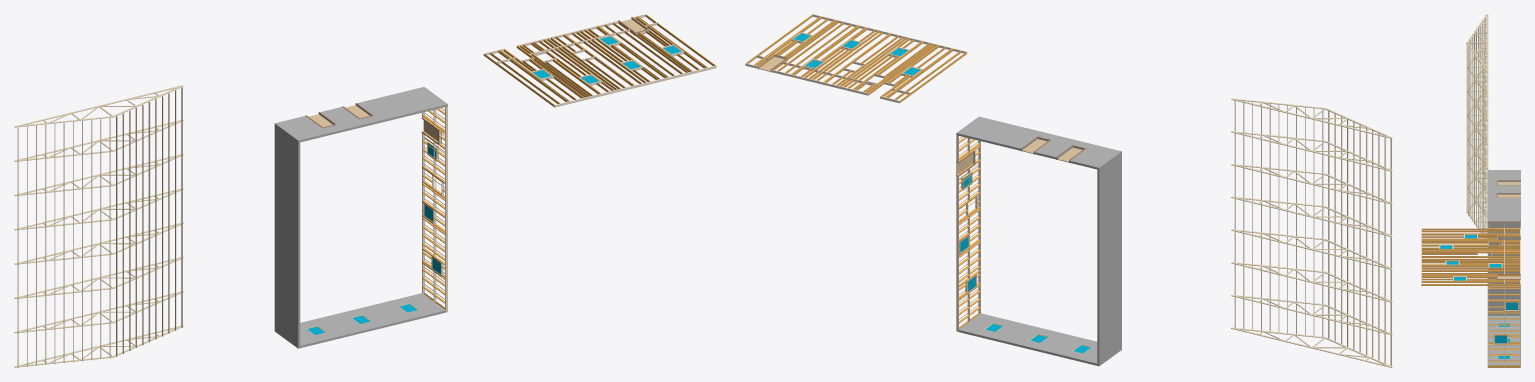
3 renders of one model, left to right at view 1: azimuth 30°, elevation 25°; view 2: azimuth 150°, elevation 25°; view 3: azimuth 270°, elevation 25°, orthographic. The views are drawn at different scales.
Visible parts, largest first — view 1: Wall Walls <361356 Muro ejemplo>, Wall Walls <361357 Muro ejemplo>, Wall Walls <361355 Muro ejemplo>, FamilySymbol Structural Framing <360180 2x4>; view 2: Wall Walls <361356 Muro ejemplo>, Wall Walls <361357 Muro ejemplo>, Wall Walls <361355 Muro ejemplo>; view 3: FamilySymbol Structural Framing <360180 2x4> (×13), Wall Walls <361357 Muro ejemplo>, Wall Walls <361356 Muro ejemplo>, Wall Walls <361355 Muro ejemplo>, FamilySymbol Doors <361679 36" x 84"> (×3), FamilySymbol Windows <361465 36" x 48"> (×2), FamilyInstance Structural Framing I_WF Stud <370391 LMBR 2x6, FamilyInstance Structural Framing I_WF Stud <370608 LMBR 2x6, FamilyInstance Structural Framing I_WF Stud <370656 LMBR 2x6, FamilyInstance Structural Framing I_WF Stud <370394 LMBR 2x6, FamilyInstance Structural Framing I_WF Stud <370562 LMBR 2x6, FamilyInstance Structural Framing I_WF Stud <370652 LMBR 2x6 (+24 smaller).
Boxes of the visible parts, left/top/right/bottom form: Wall Walls <361356 Muro ejemplo>: left=274, top=123, right=300, bottom=346; Wall Walls <361357 Muro ejemplo>: left=277, top=87, right=447, bottom=142; Wall Walls <361355 Muro ejemplo>: left=274, top=293, right=445, bottom=348; FamilySymbol Structural Framing <360180 2x4>: left=148, top=102, right=150, bottom=342; Wall Walls <361356 Muro ejemplo>: left=1097, top=151, right=1121, bottom=363; Wall Walls <361357 Muro ejemplo>: left=956, top=116, right=1119, bottom=169; Wall Walls <361355 Muro ejemplo>: left=958, top=313, right=1121, bottom=366; FamilySymbol Structural Framing <360180 2x4> (×13): left=1466, top=20, right=1486, bottom=238; Wall Walls <361357 Muro ejemplo>: left=1487, top=170, right=1520, bottom=222; Wall Walls <361356 Muro ejemplo>: left=1487, top=170, right=1520, bottom=315; Wall Walls <361355 Muro ejemplo>: left=1488, top=315, right=1519, bottom=365; FamilySymbol Doors <361679 36" x 84"> (×3): left=1496, top=180, right=1520, bottom=279; FamilySymbol Windows <361465 36" x 48"> (×2): left=1494, top=302, right=1518, bottom=344; FamilyInstance Structural Framing I_WF Stud <370391 LMBR 2x6: left=1422, top=284, right=1519, bottom=285; FamilyInstance Structural Framing I_WF Stud <370608 LMBR 2x6: left=1422, top=268, right=1519, bottom=269; FamilyInstance Structural Framing I_WF Stud <370656 LMBR 2x6: left=1422, top=270, right=1519, bottom=271; FamilyInstance Structural Framing I_WF Stud <370394 LMBR 2x6: left=1422, top=229, right=1519, bottom=230; FamilyInstance Structural Framing I_WF Stud <370562 LMBR 2x6: left=1422, top=256, right=1519, bottom=257; FamilyInstance Structural Framing I_WF Stud <370652 LMBR 2x6: left=1422, top=281, right=1519, bottom=282.
Bounding box in the file's own units: 48682 × 20704 × 9144.
